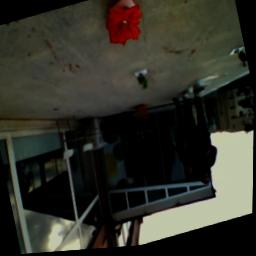herb: (136, 74, 151, 95), (235, 52, 250, 73)
wild: (102, 1, 148, 54)
